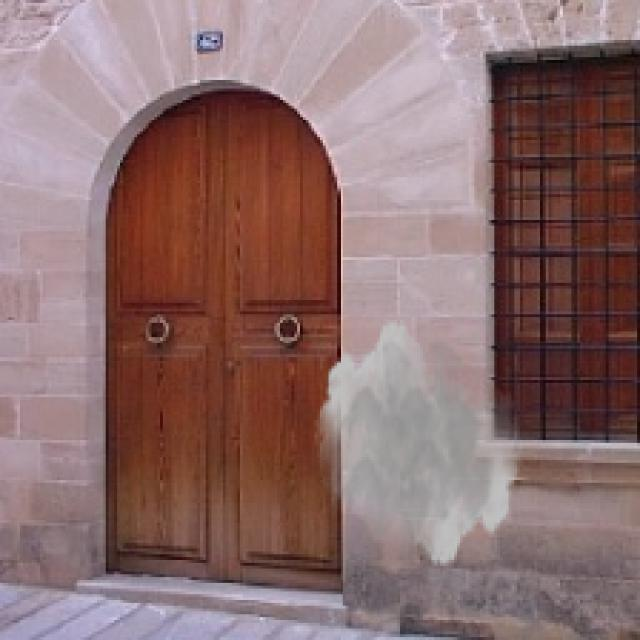Smoke: (314, 317, 523, 569)
